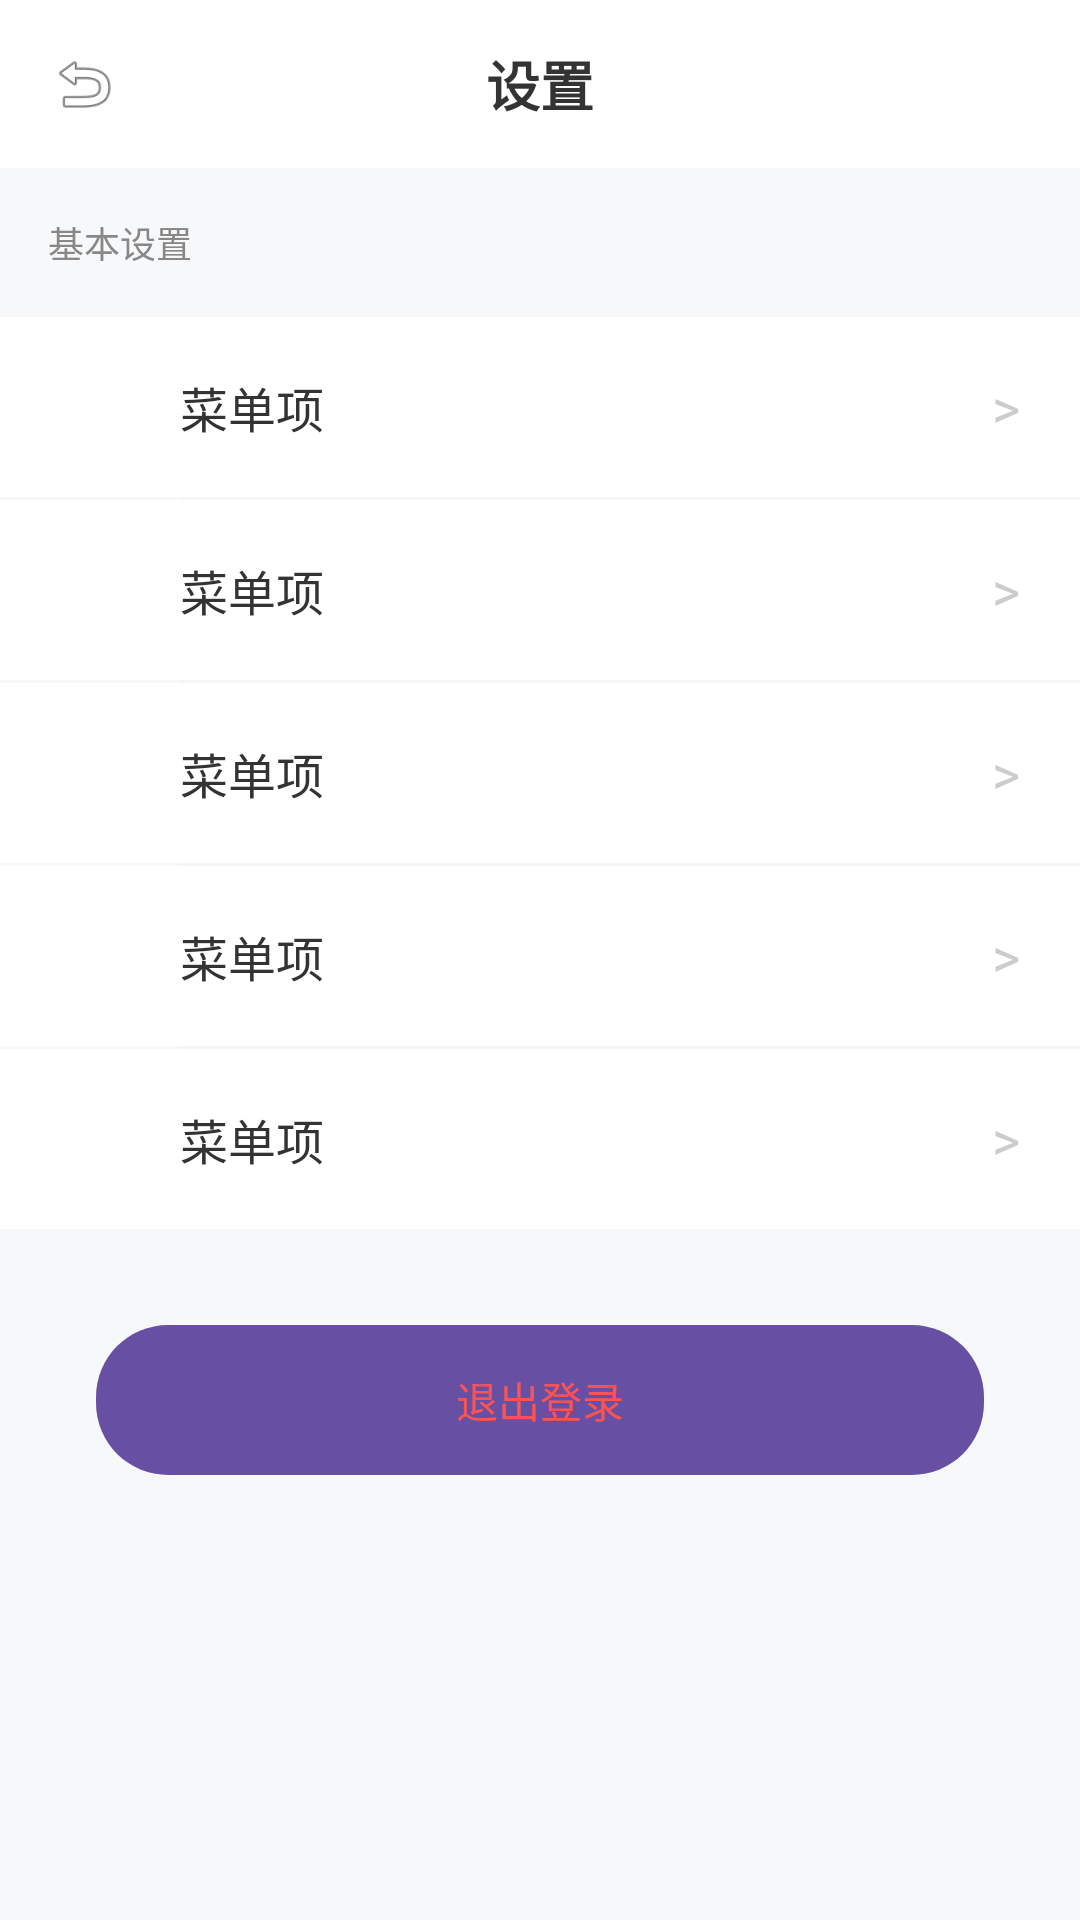

Point at icon controls on the screen. Image size 1080px x 1920px, points as (x=x, y=y).
revert: (x=85, y=84)
